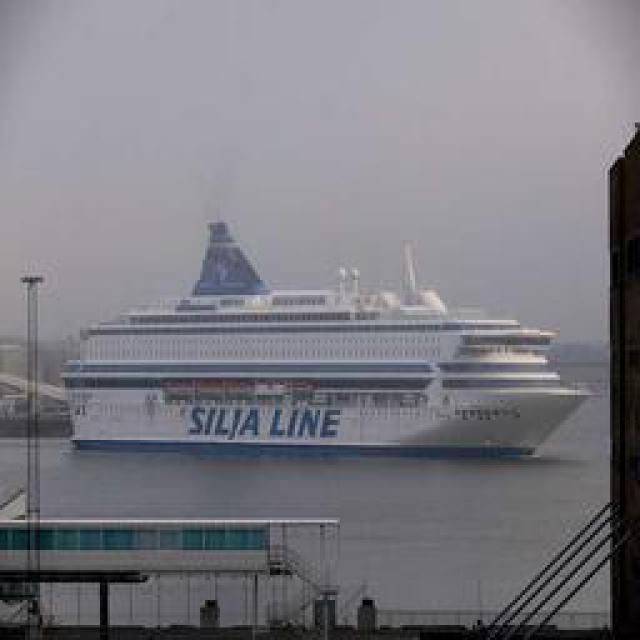Ship: (73, 237, 551, 377)
